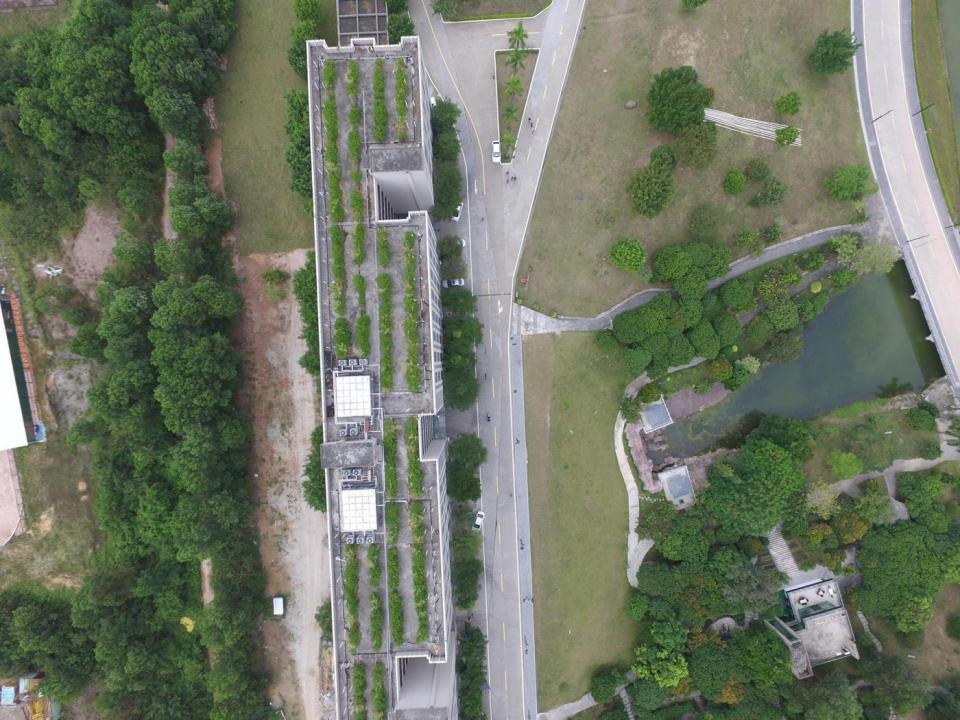car: (471, 510, 486, 532), (449, 200, 464, 222), (440, 277, 466, 289), (490, 139, 502, 163), (440, 238, 468, 248)
